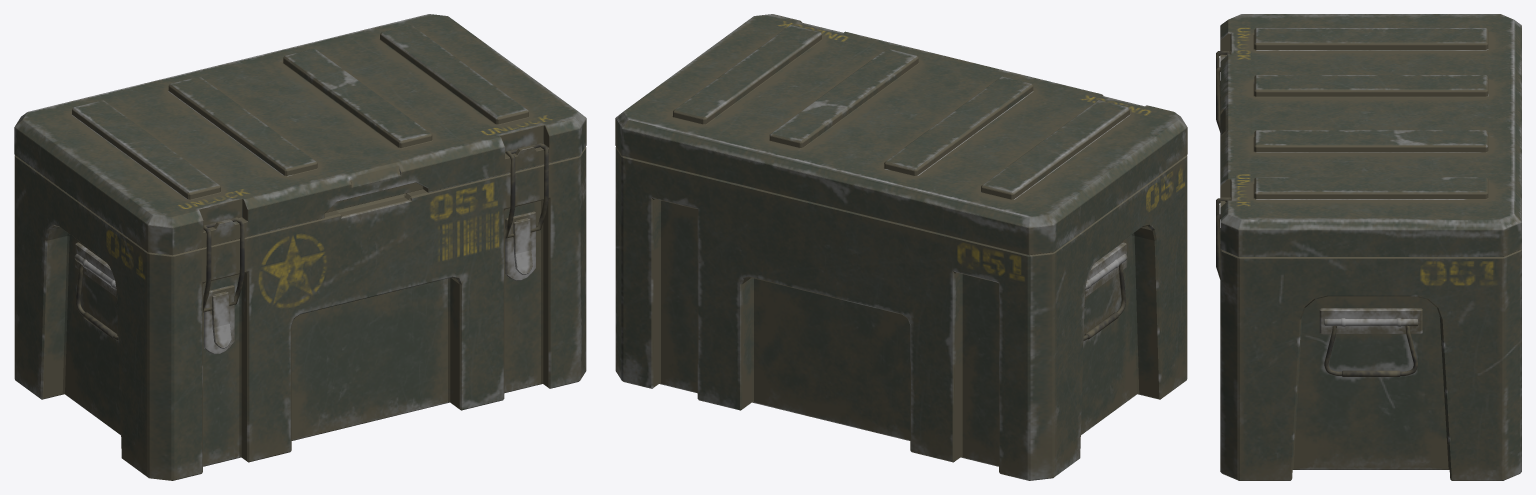
Rendered from ammo_box.glb.
The picture shows the model from 3 angles, left to right: view 1: azimuth 30°, elevation 25°; view 2: azimuth 150°, elevation 25°; view 3: azimuth 270°, elevation 25°; orthographic projection.
Parts seen in each view (by area): view 1: Plane.005; view 2: Plane.005; view 3: Plane.005.
Part boxes in pixels (x1,y1,x2,y2): Plane.005: (14, 14, 586, 480); Plane.005: (615, 14, 1187, 480); Plane.005: (1216, 14, 1521, 480).
Bounding box in the file's own units: 0.9041 × 0.5274 × 0.5503.
3 materials, 3 textured.
